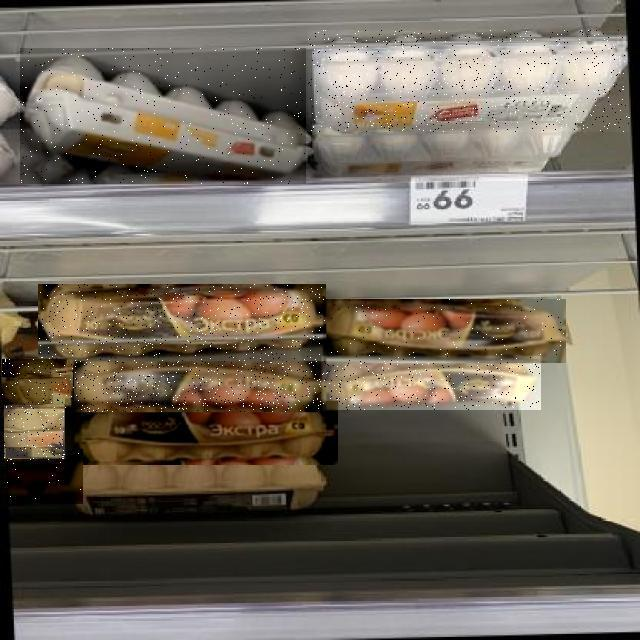Eggs: (20, 48, 306, 184), (308, 30, 630, 132), (39, 284, 327, 361), (65, 401, 338, 465), (68, 350, 326, 412), (323, 299, 566, 363), (322, 356, 541, 410), (6, 450, 83, 506), (3, 360, 75, 412), (4, 408, 65, 462)
